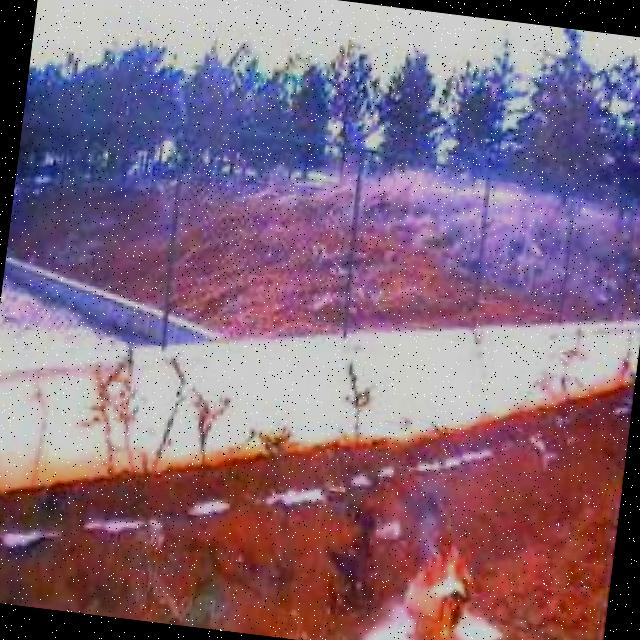Fire: (394, 496, 483, 640)
